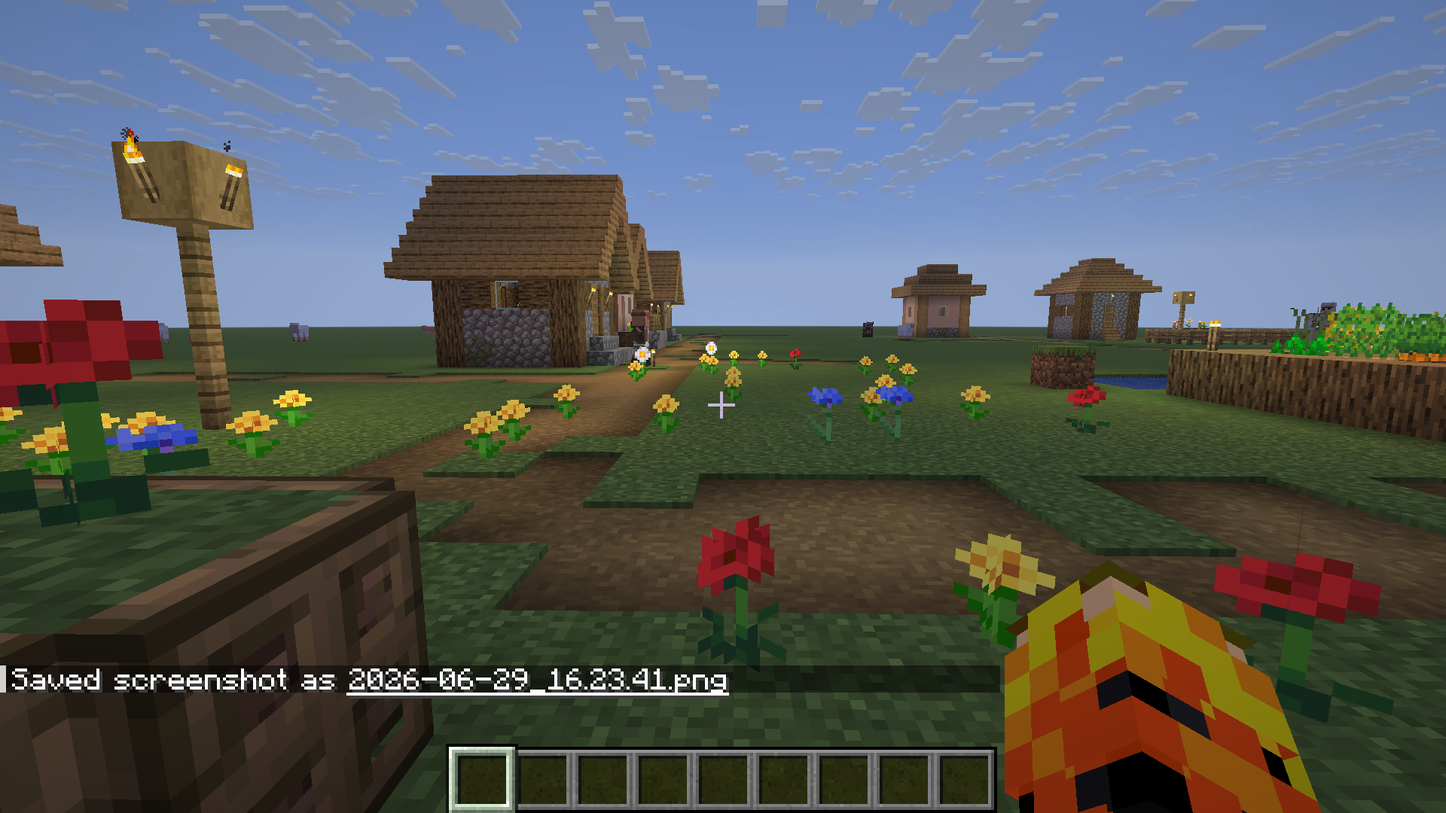villager: (624, 301, 658, 352)
water: (1101, 376, 1166, 390)
